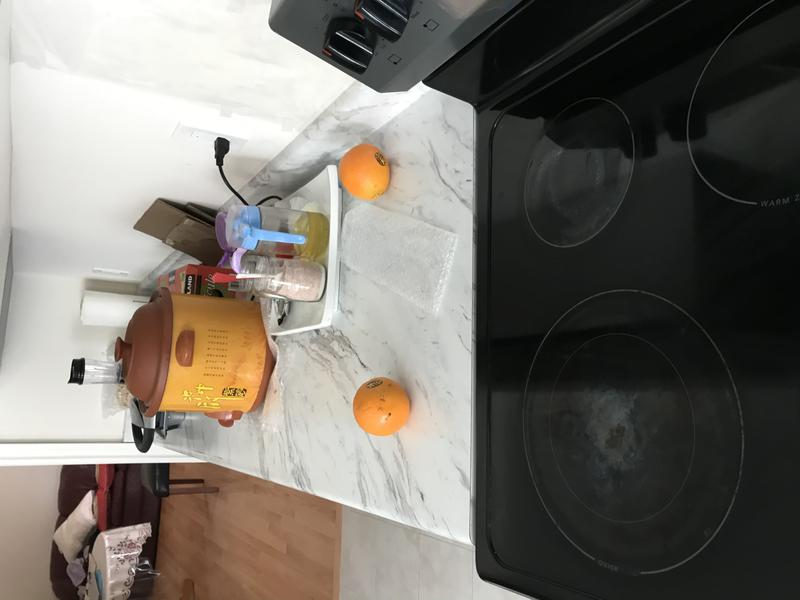orange: (350, 371, 413, 442), (336, 138, 394, 205)
